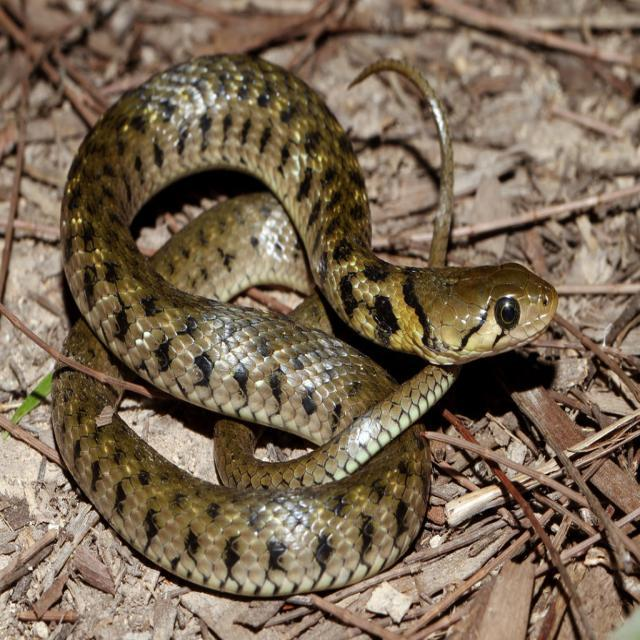Snake: (49, 49, 558, 598)
